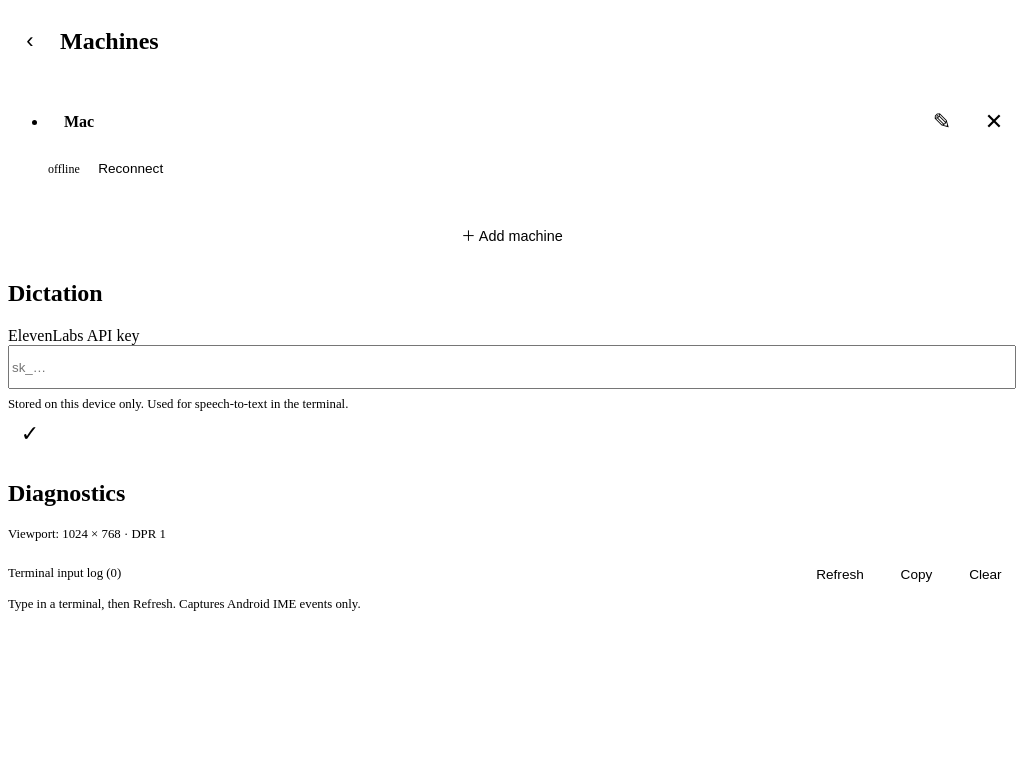
Test case: Settings › pre-fills the edit form with the current default path
This screenshot has width=1024, height=768.
Click the button named "edit" at {"x": 942, "y": 122}, box [920,100,964,144]
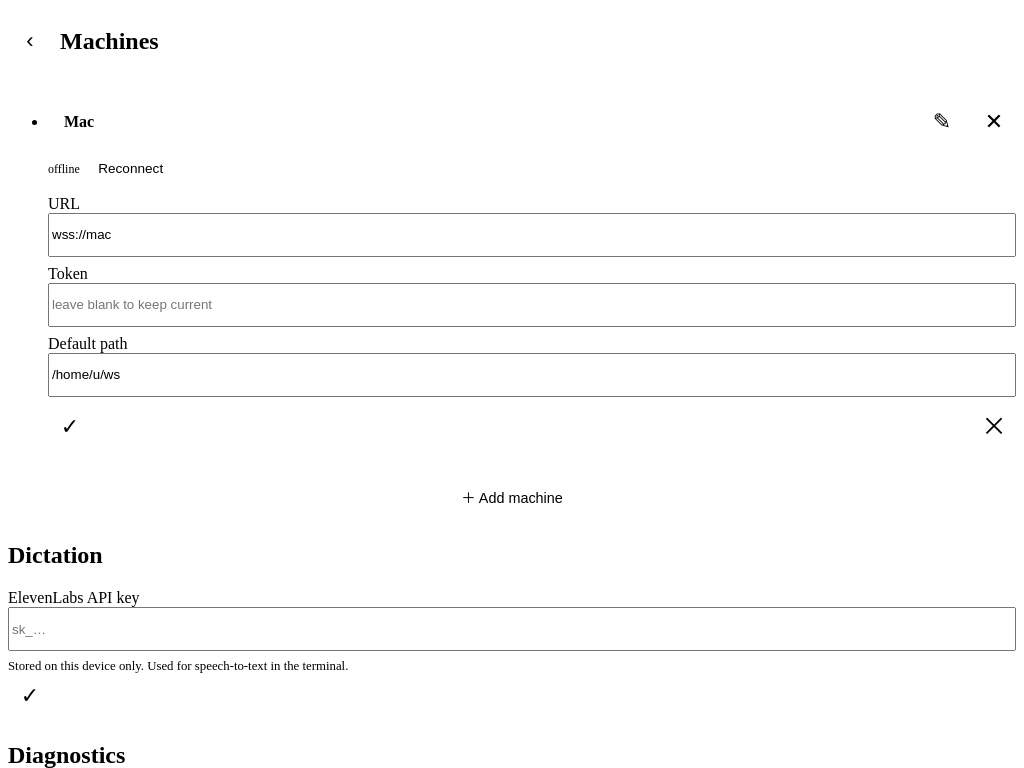
Now the field with test id "edit-default-path" holds "/home/u/ws", box [48,353,1016,397]
